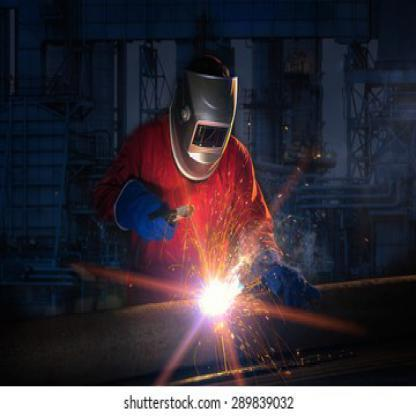Gloves: (251, 246, 321, 310), (112, 176, 177, 244)
